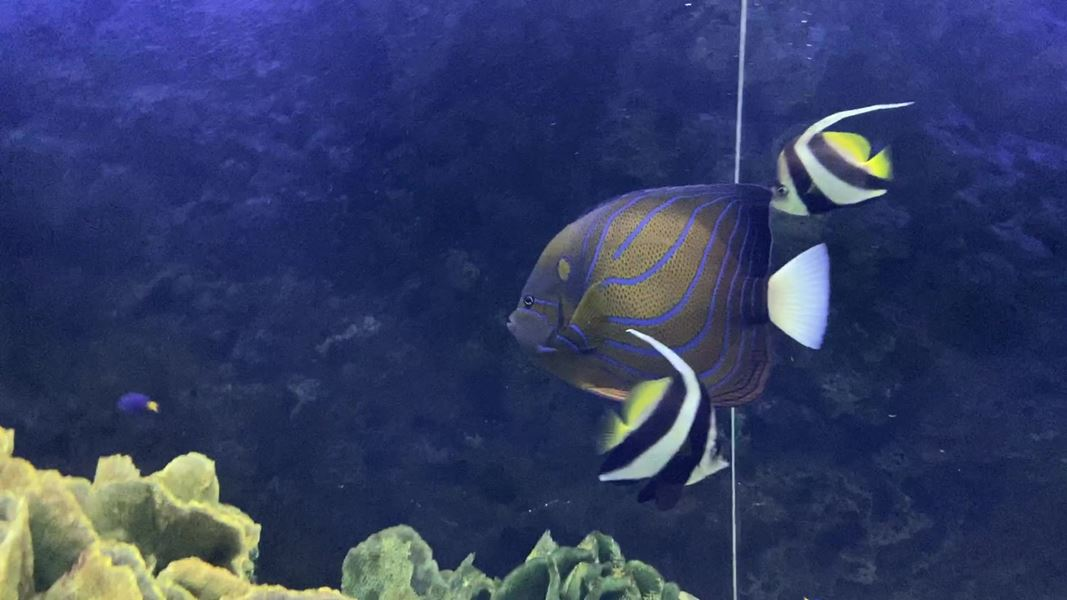Blue ring angelfish: (486, 173, 848, 428)
